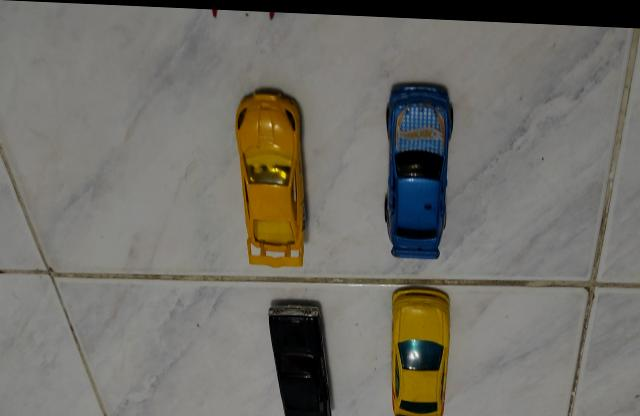01_FORD: (267, 298, 333, 416)
02_OZSOME: (390, 281, 450, 416)
03_V8: (211, 7, 245, 17), (269, 9, 278, 19)
04_MERZEDES: (384, 76, 453, 256)
07_RHLTURBO: (235, 83, 309, 265)
